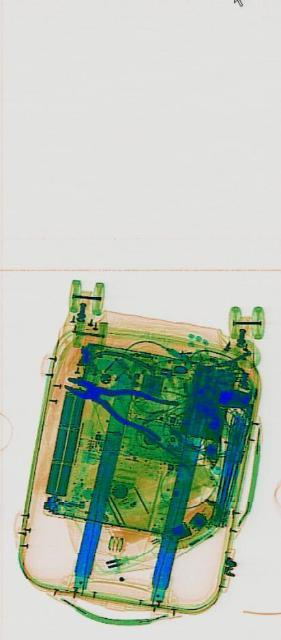Pliers: (61, 351, 178, 449)
